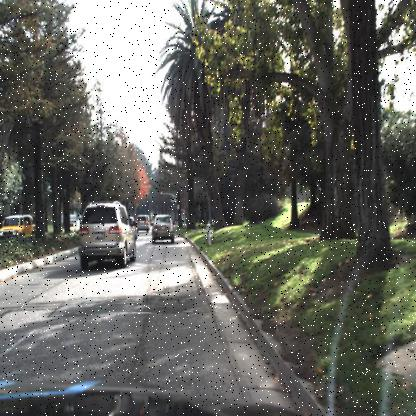car: (75, 196, 142, 271), (1, 214, 38, 243), (150, 210, 177, 245), (135, 214, 149, 233), (137, 214, 148, 232), (62, 222, 76, 234)
